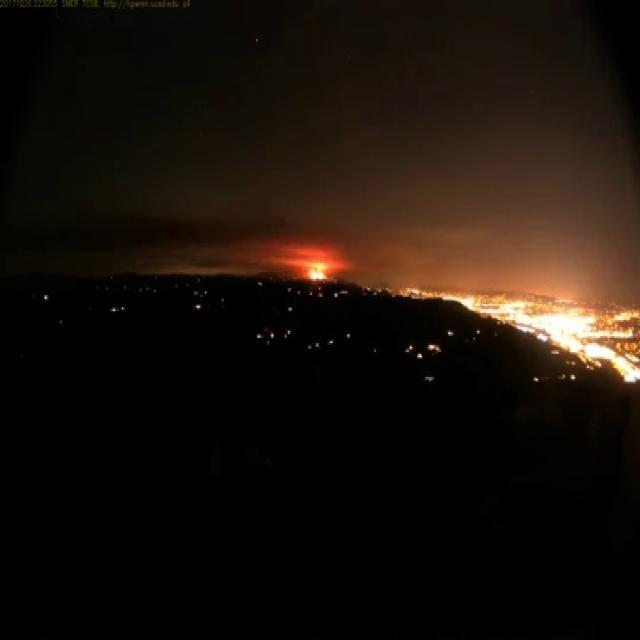Fire: (306, 256, 328, 281)
